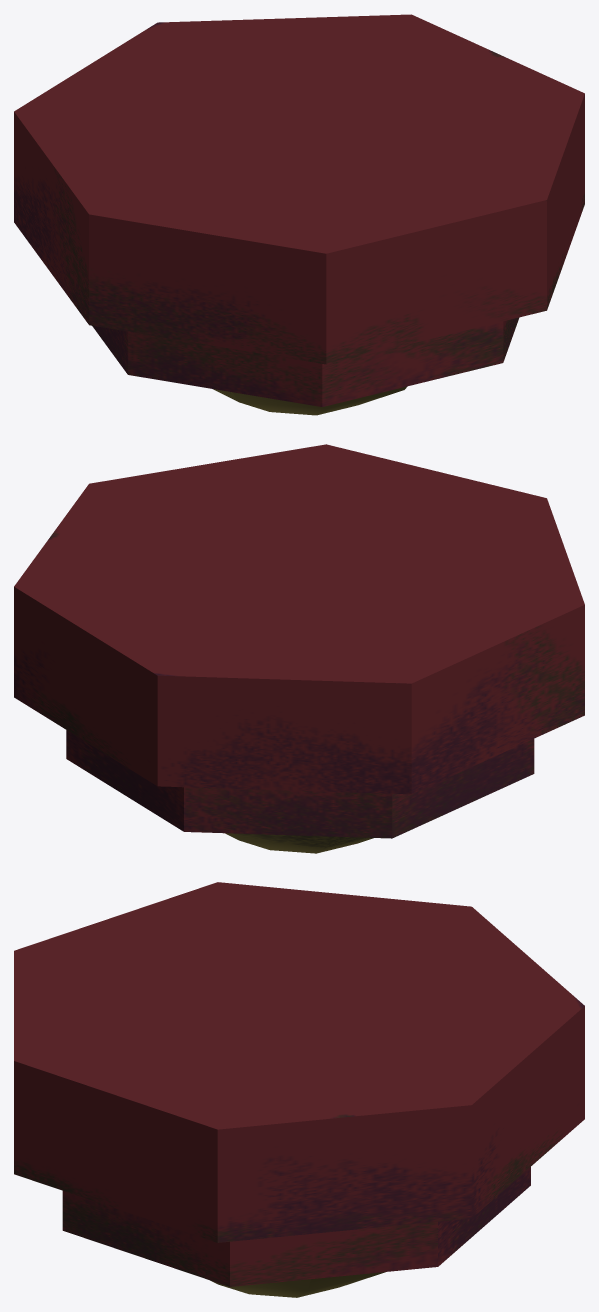
The model's file is env_ceiling_lamp.fbx.
3 views of the same model, one above another, from view 1: azimuth 30°, elevation 25°; view 2: azimuth 150°, elevation 25°; view 3: azimuth 270°, elevation 25° (orthographic). The views are drawn at different scales.
Visible parts, largest first — view 1: Cylinder; view 2: Cylinder; view 3: Cylinder.
Part boxes in pixels (box(x1,y1,x2,y2)): Cylinder: box(14, 14, 584, 415); Cylinder: box(14, 444, 584, 853); Cylinder: box(14, 882, 584, 1297).
Bounding box in the file's own units: 16.31 × 8.41 × 15.9.
Materials: 1 (1 with a texture image).
